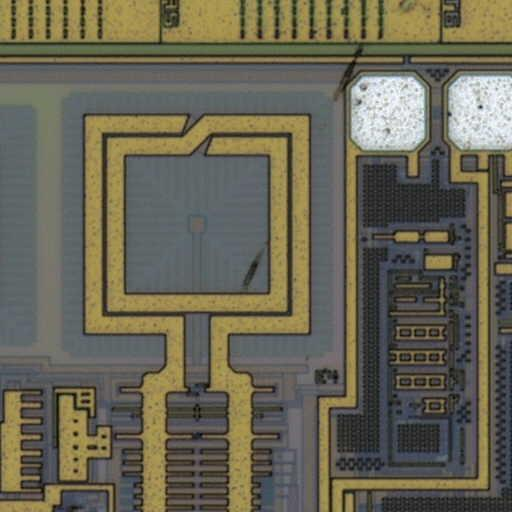SCRATCH: (228, 1, 418, 314)
